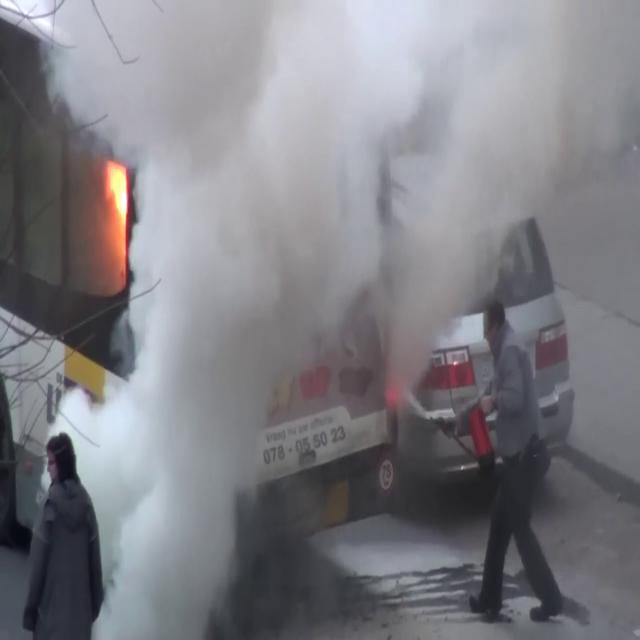Fire: (105, 146, 131, 277)
Smoke: (71, 1, 415, 630), (132, 0, 608, 359)
